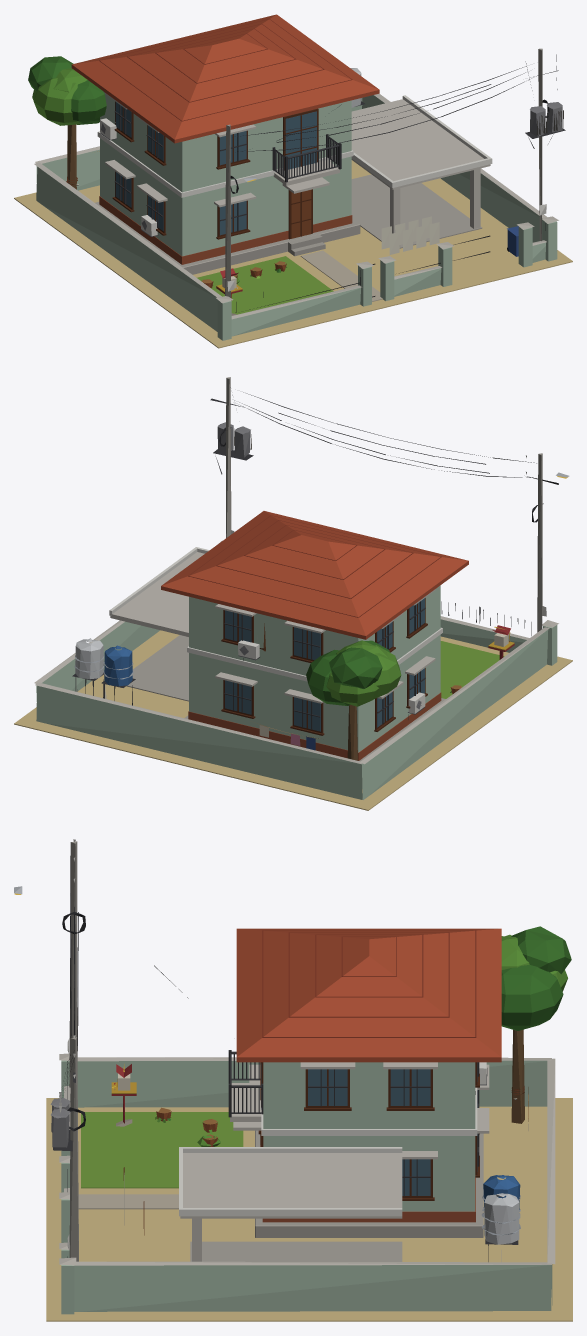
The model's file is home_2.glb.
3 views of the same model, one above another, from view 1: azimuth 30°, elevation 25°; view 2: azimuth 150°, elevation 25°; view 3: azimuth 270°, elevation 25° (orthographic). The views are drawn at different scales.
Visible parts, largest first — view 1: body, windows; view 2: body, windows; view 3: body, windows.
Part boxes in pixels (x1,y1,x2,y2): body: [14, 14, 572, 348]; windows: [115, 102, 316, 235]; body: [14, 377, 572, 810]; windows: [225, 476, 567, 731]; body: [14, 839, 572, 1321]; windows: [14, 893, 477, 1195].
Size of the model in its own units: 15.96 by 9.34 by 16.88.
